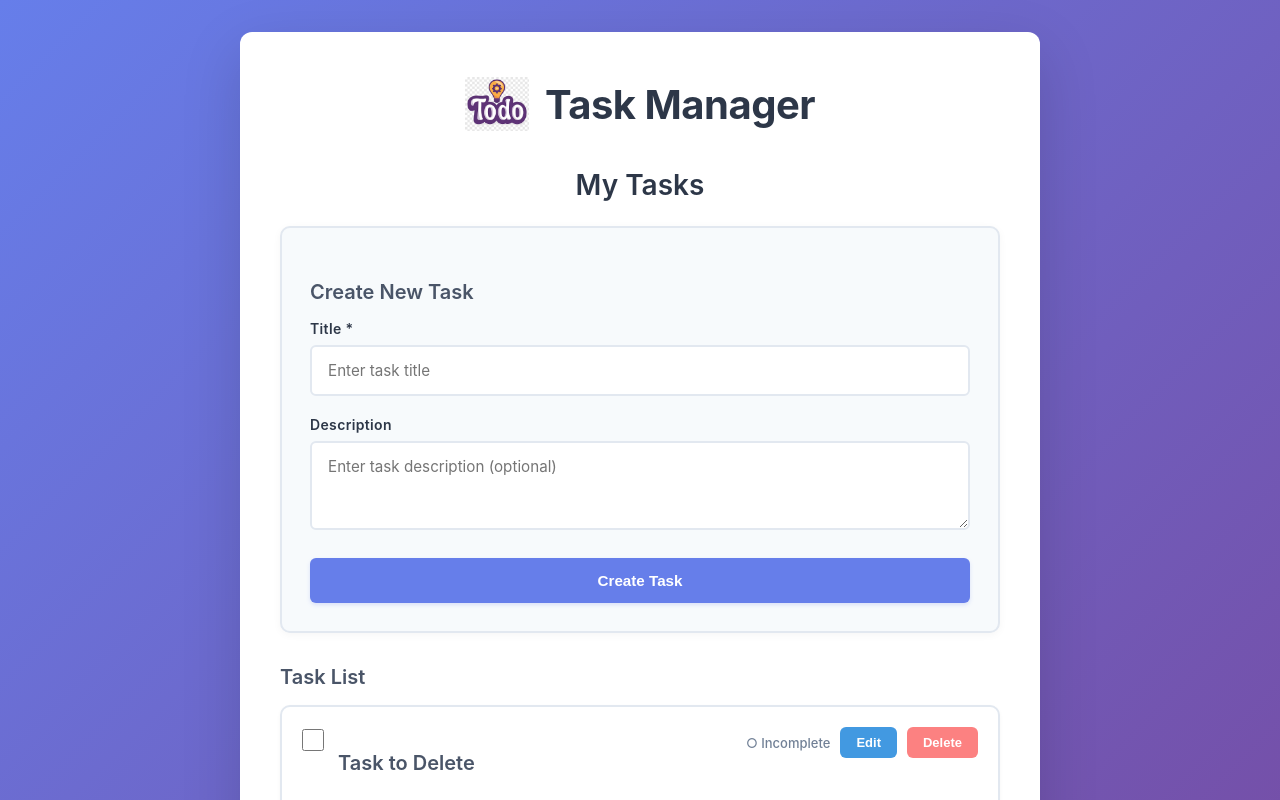
Test: App Component › Integration Tests - Complete User Flows › Error Handling for Failed API Calls › should display error when deletion fails
Expected: the heading "Task to Delete" is shown, 338,751 -> 475,775
# Try to delete
Click the button named "delete task \"task to delete\"" at (942, 742), box 907,727 -> 978,758
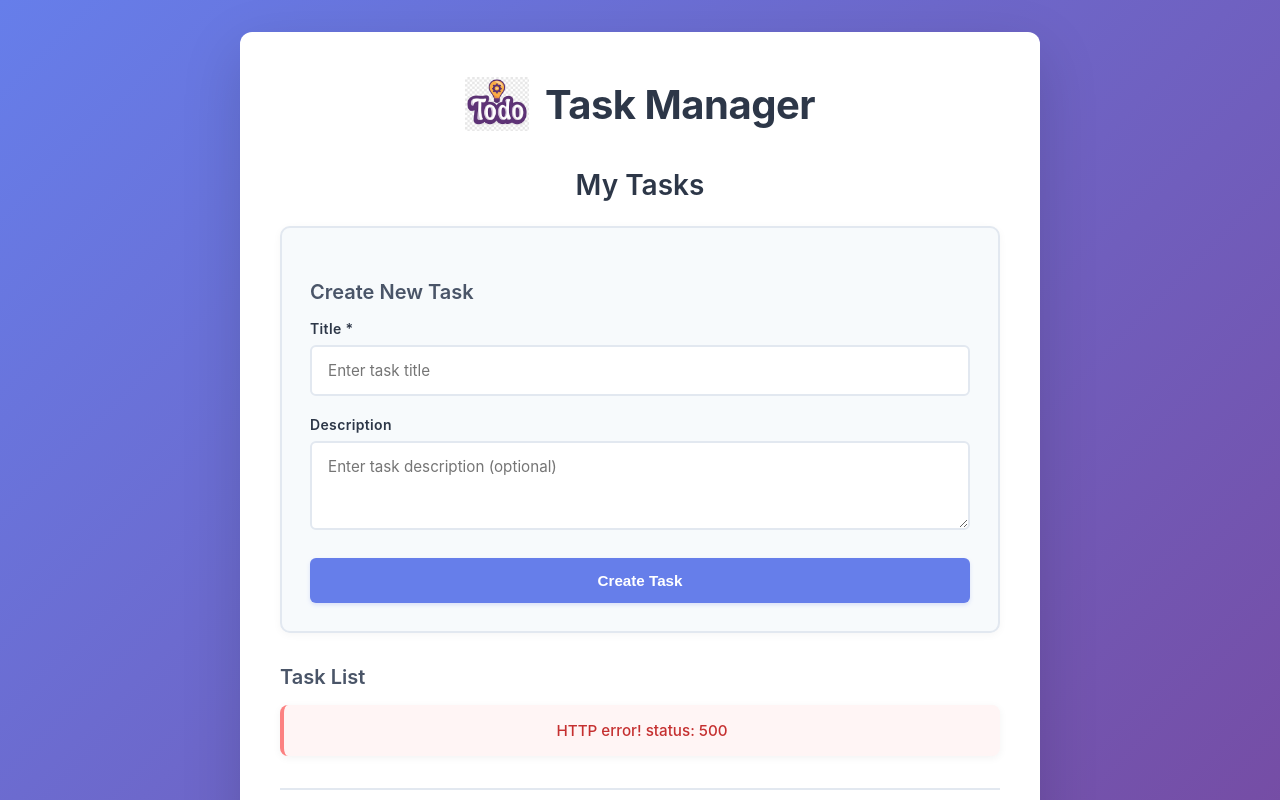
Now the element with class "task-list-section" shows "HTTP error! status: 500", box 556,721 -> 728,740
